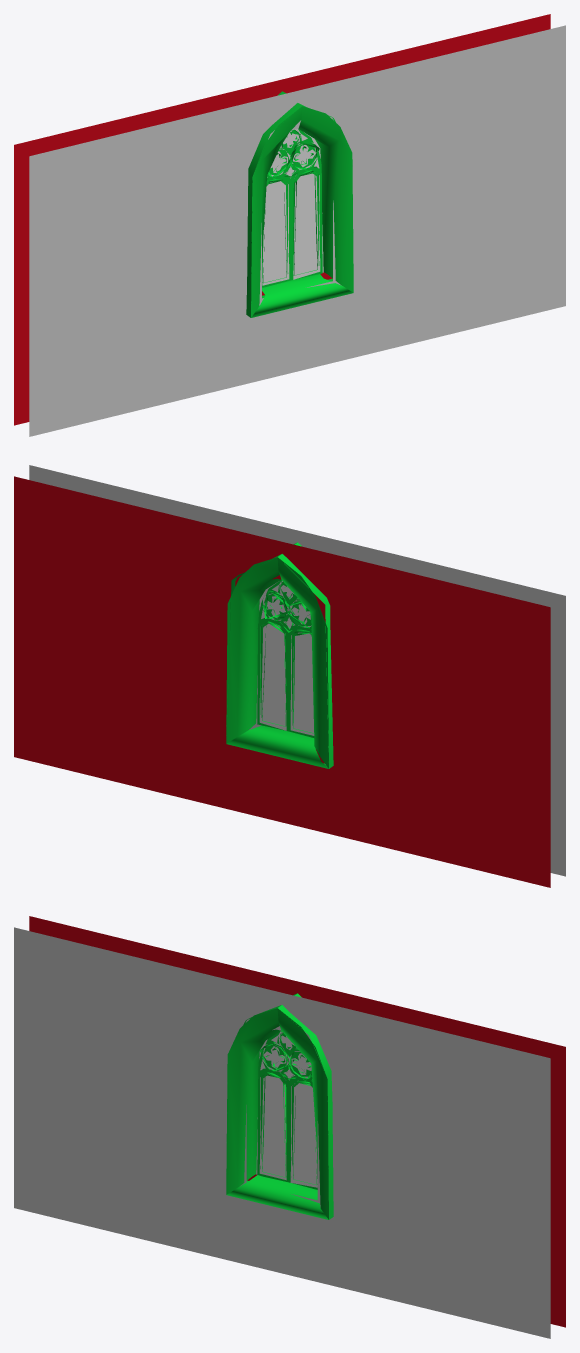
The model's file is Wall_Windows (2).fbx.
The picture shows the model from 3 angles, top to bottom: view 1: azimuth 30°, elevation 25°; view 2: azimuth 150°, elevation 25°; view 3: azimuth 330°, elevation 25°; orthographic projection.
Parts seen in each view (by area): view 1: Wall.001, Glass; view 2: Wall.001, Glass; view 3: Wall.001, Glass.
Part boxes in pixels (x1=…): Wall.001: x1=14, y1=14, x2=565, y2=436; Glass: x1=262, y1=129, x2=323, y2=285; Wall.001: x1=14, y1=465, x2=565, y2=887; Glass: x1=256, y1=581, x2=314, y2=735; Wall.001: x1=14, y1=916, x2=565, y2=1338; Glass: x1=256, y1=1031, x2=317, y2=1187.
Bounding box in the file's own units: 1000 × 500 × 82.06.
